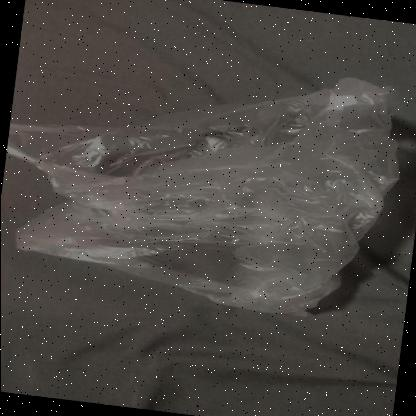Others: (6, 77, 400, 318)
